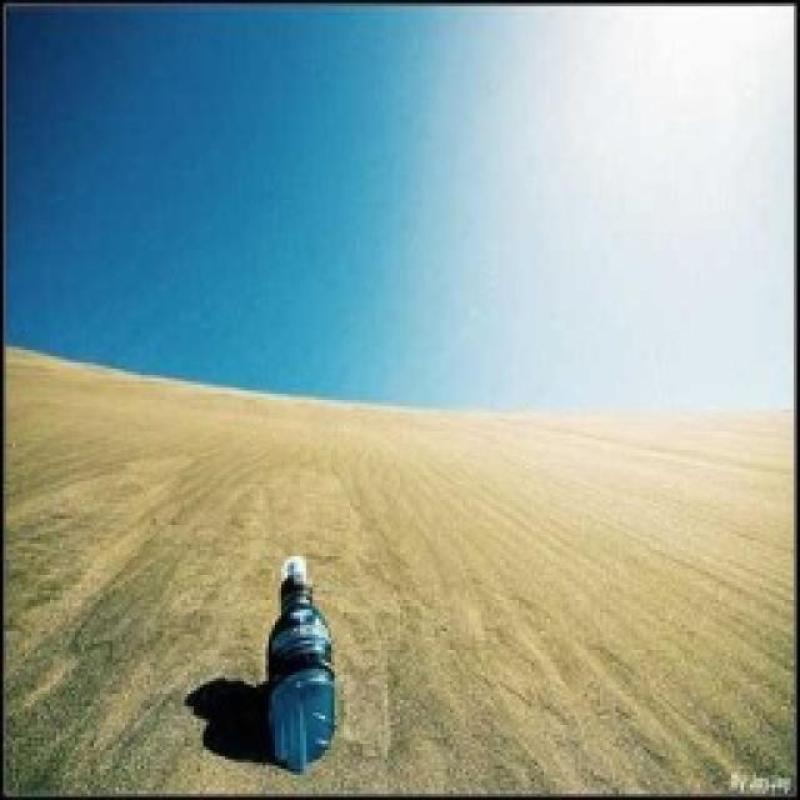botella: (263, 551, 335, 774)
